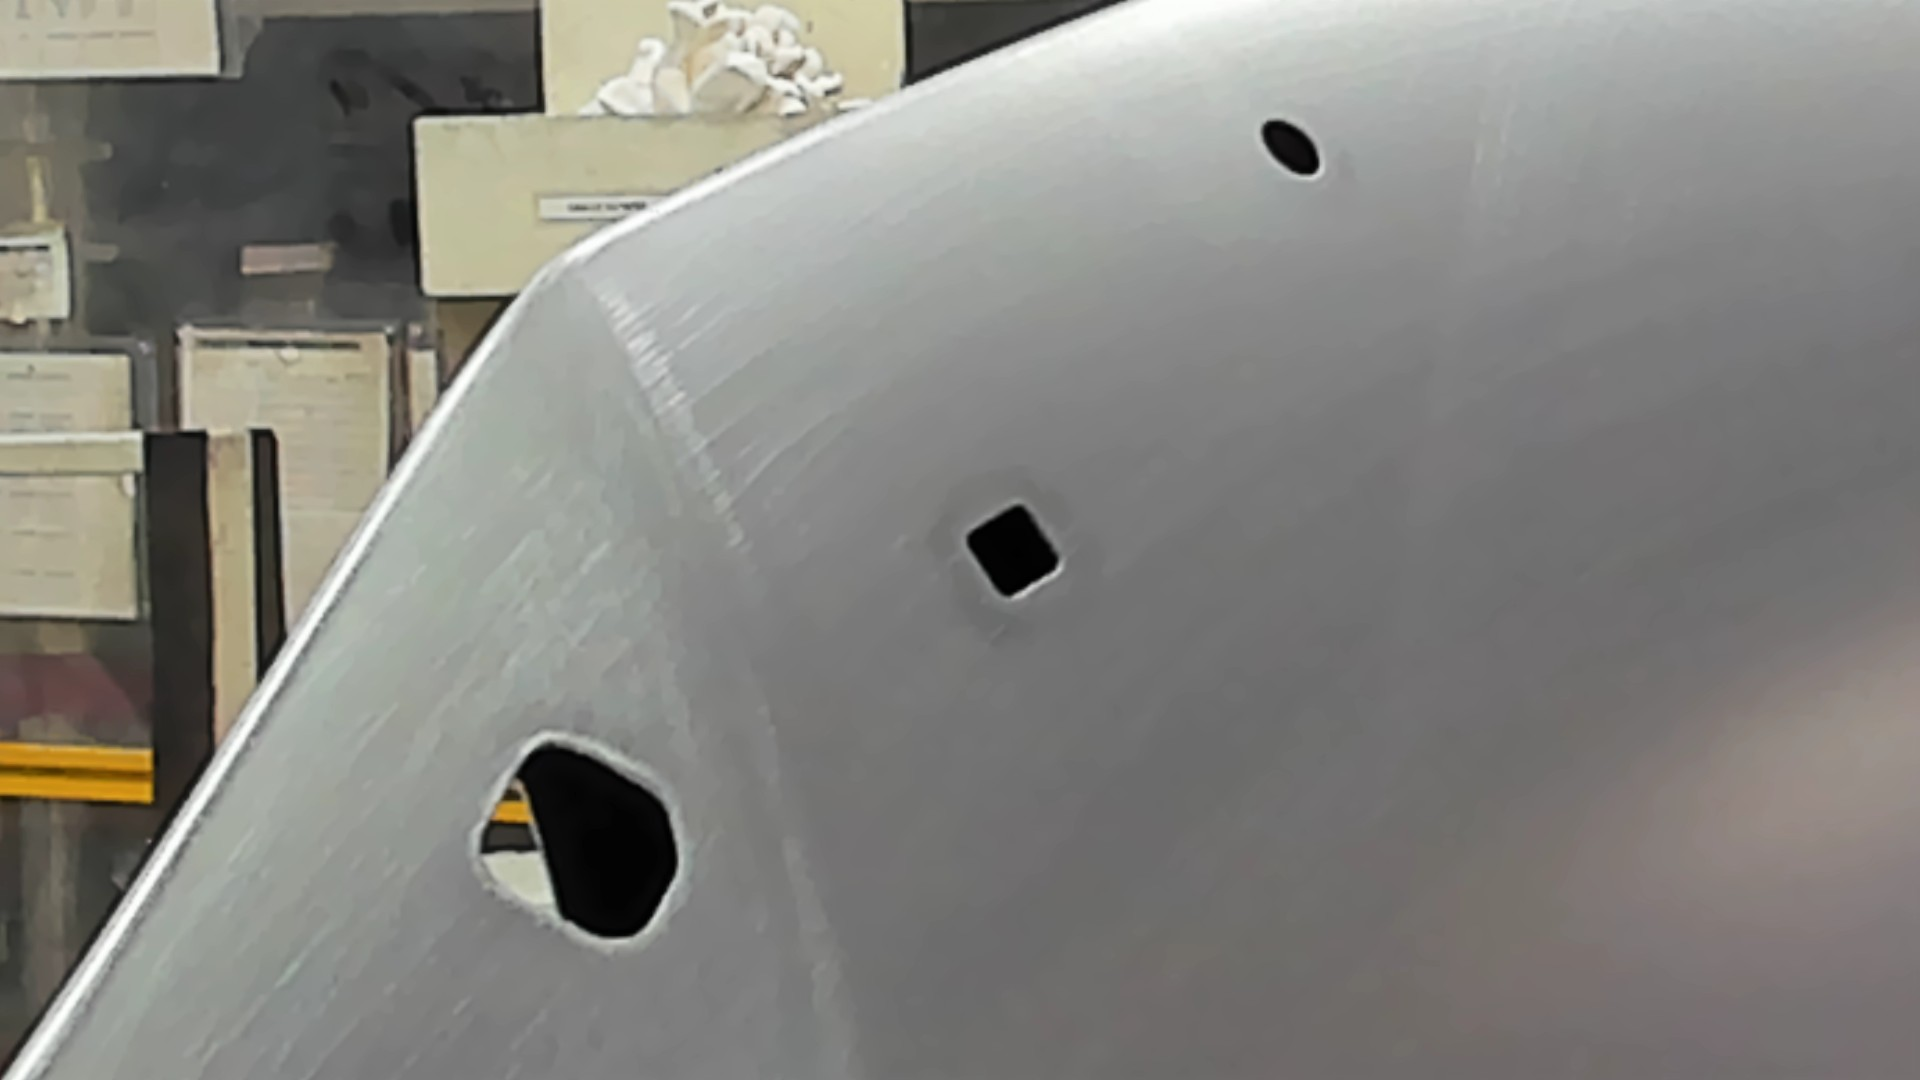chico: (1255, 109, 1327, 183)
grande: (468, 732, 686, 955)
mediano: (953, 496, 1071, 605)
